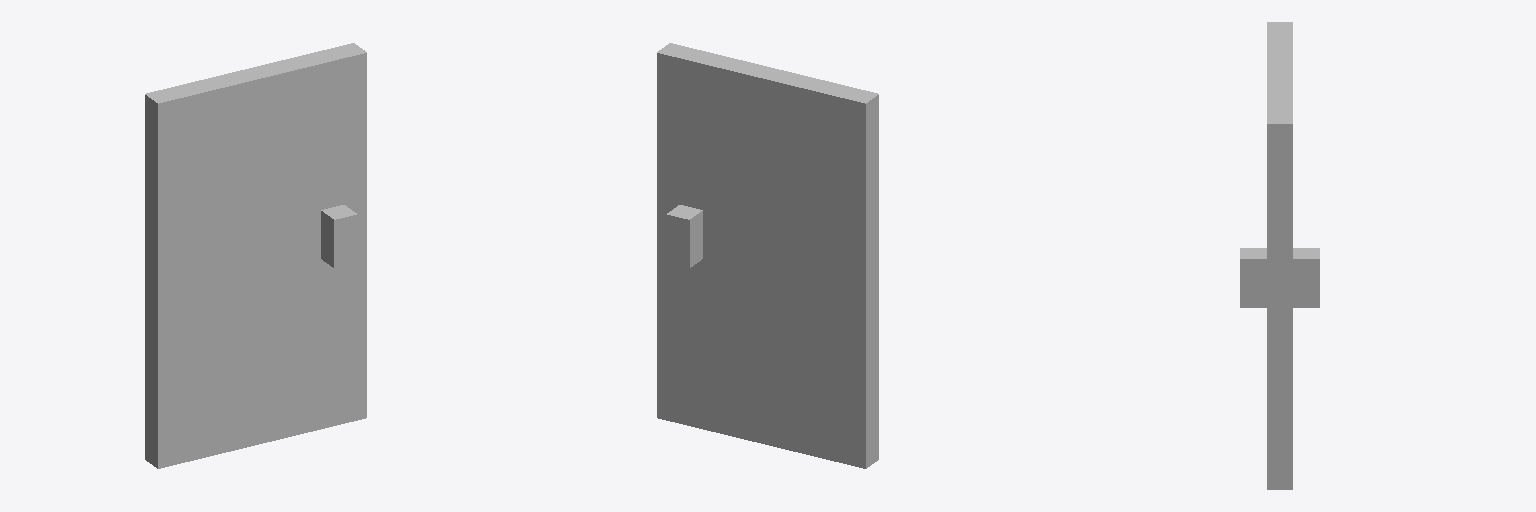
Rendered from Door2.obj.
3 views of the same model, side by side, from view 1: azimuth 30°, elevation 25°; view 2: azimuth 150°, elevation 25°; view 3: azimuth 270°, elevation 25° (orthographic).
Visible parts, largest first — view 1: object 1; view 2: object 1; view 3: object 1.
Boxes of the visible parts, box(x1,y1,x2,y2) form: object 1: box(145, 43, 366, 468); object 1: box(657, 43, 878, 468); object 1: box(1240, 22, 1319, 489).
Bounding box in the file's own units: 0.9 × 1.5 × 0.3.